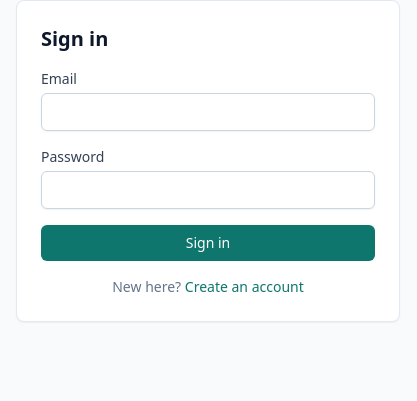
Test: shows the problem details message on bad credentials
The width and height of the screenshot is (417, 401).
In the field labelled "Email": (208, 112) [41, 93, 375, 131], type "casey@example.com"
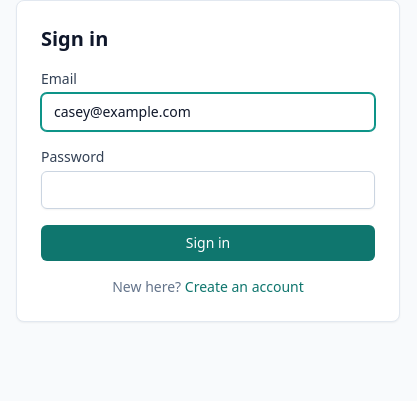
In the password field labelled "Password": (208, 190) [41, 171, 375, 209], type "wrong"
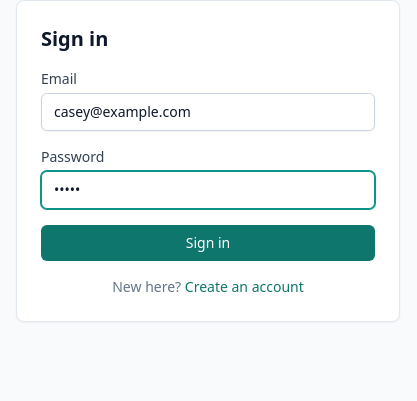
Click the button "Sign in": (208, 243) [41, 225, 375, 261]
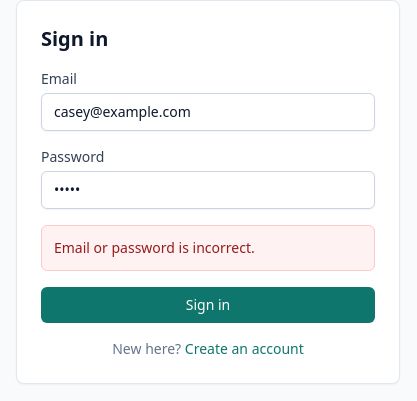
Expected: the message reads "Email or password is incorrect.", [54, 238, 255, 257]
